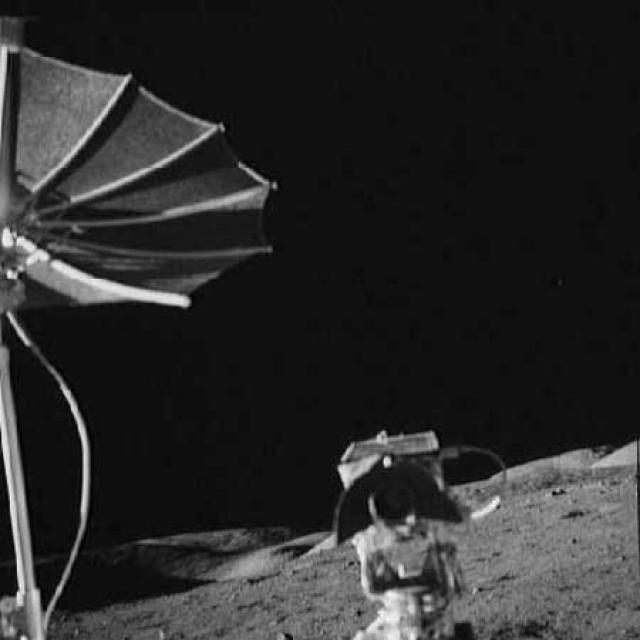artifact: (2, 1, 274, 396), (314, 420, 515, 638), (2, 394, 112, 639)
crater: (550, 495, 629, 527)
